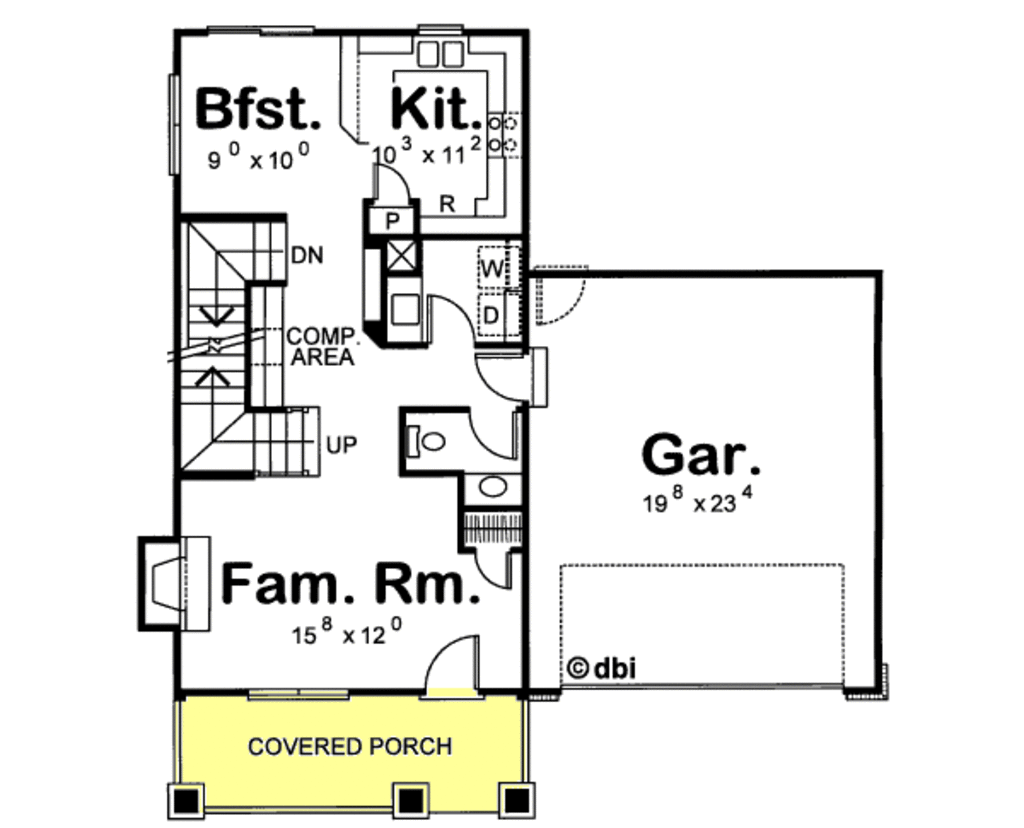door: (412, 629, 492, 706), (479, 345, 559, 412), (529, 254, 587, 324), (464, 406, 526, 468), (424, 288, 478, 348), (462, 544, 523, 592), (368, 159, 419, 206)
large_sink: (399, 407, 456, 474)
small_sink: (459, 471, 533, 508)
stairs: (176, 199, 330, 485)
twin_sink: (409, 28, 478, 82)
window: (159, 71, 188, 178), (242, 681, 353, 707)
